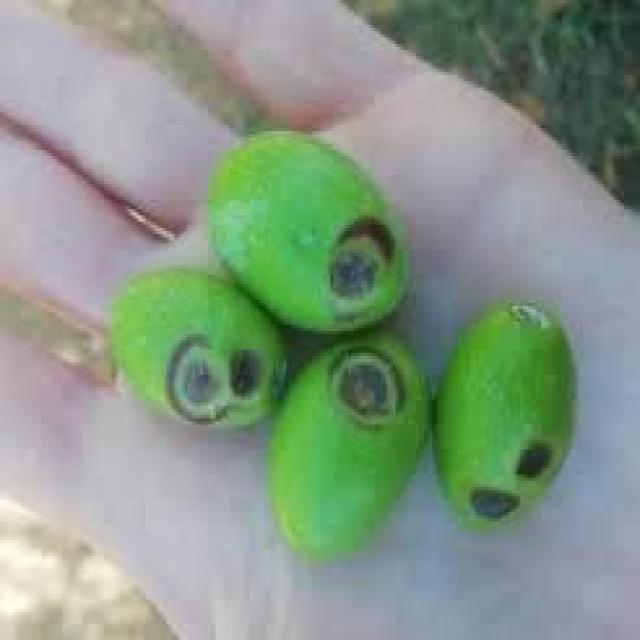Olive Fruit Fly: (211, 134, 403, 328), (268, 331, 430, 556), (437, 303, 572, 521), (112, 268, 284, 425)
